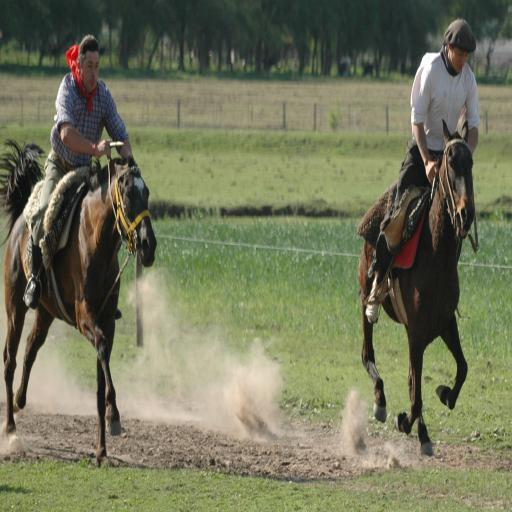horse: (0, 138, 159, 469), (354, 120, 476, 456)
